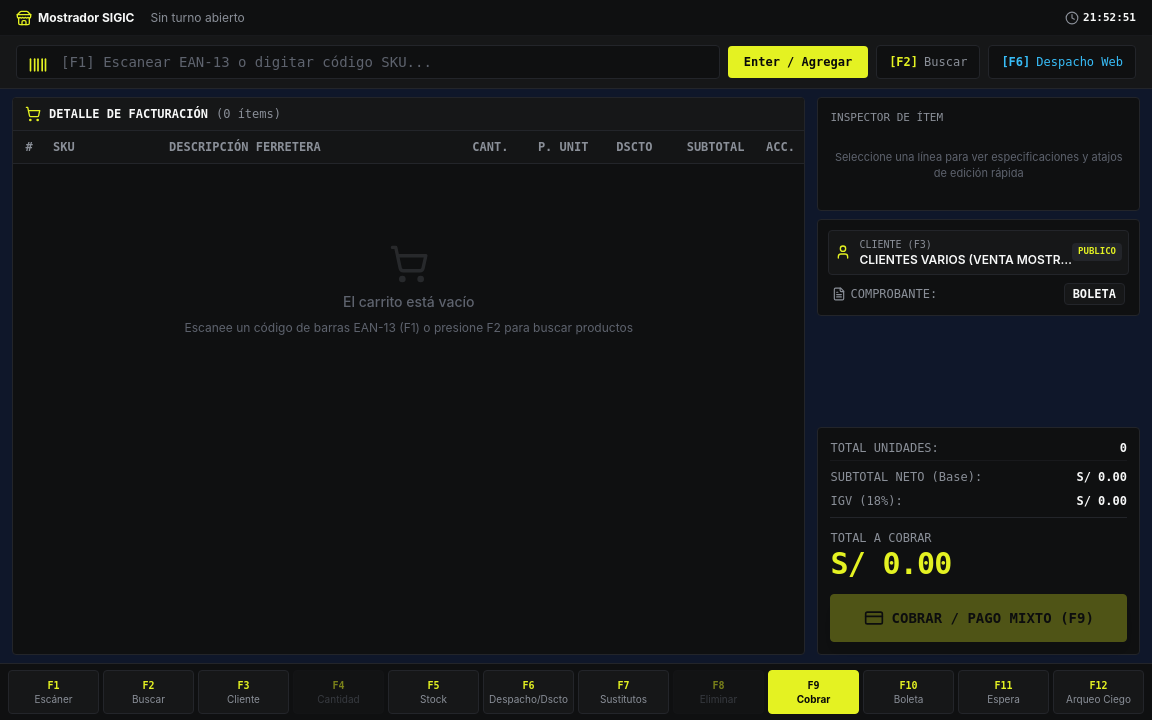
it: Despacho Ligero en Tienda de Pedidos Web (RF-POS-011) › rechaza despacho si el pedido no se encuentra en estado 'Listo para Retiro'
The width and height of the screenshot is (1152, 720).
Click the text "Despacho Web". click: (1080, 62)
box: [1036, 54, 1123, 70]
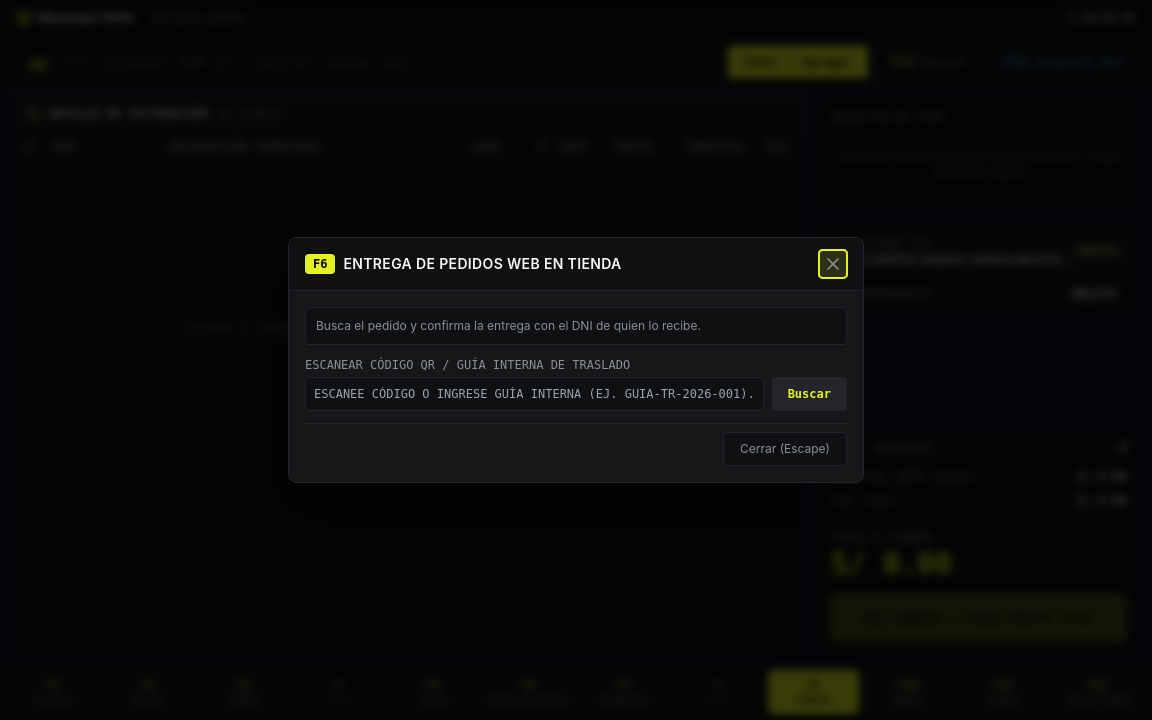
Replace the text in the field with placeholder "Escanee código o ingrese Guía Interna" with "GUIA-TR-2026-003". click: (534, 394)
box: [305, 377, 764, 411]
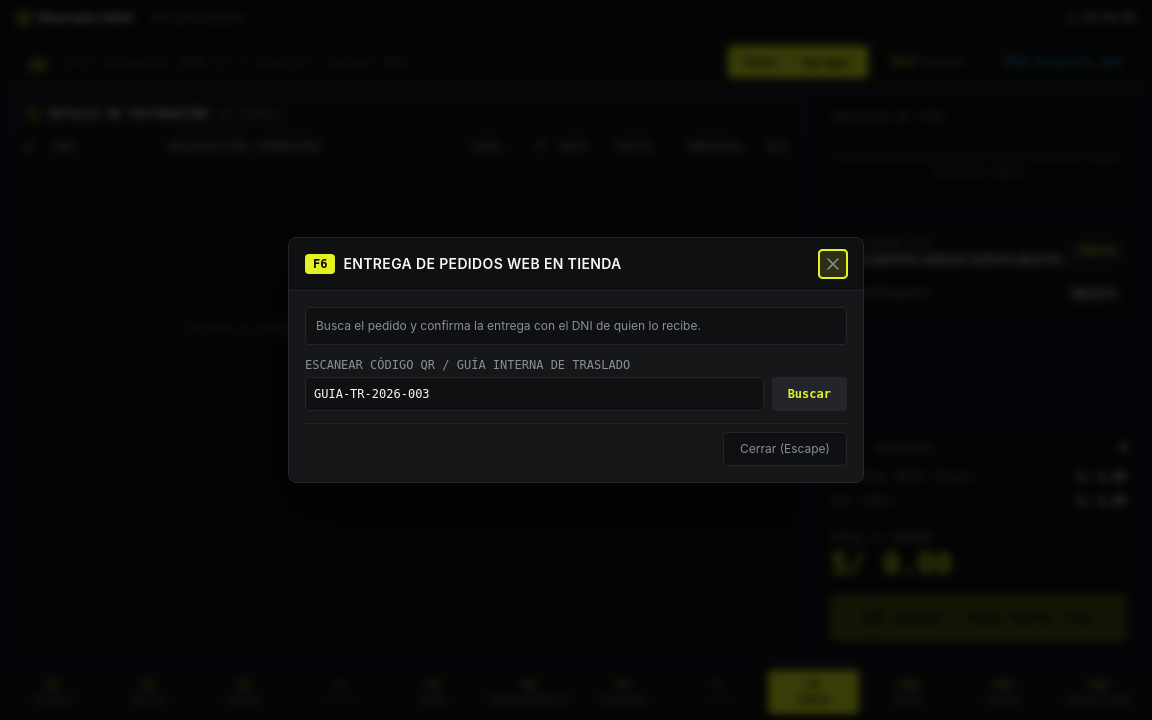
Click the button "Buscar". click: (809, 394)
box: [772, 377, 847, 411]
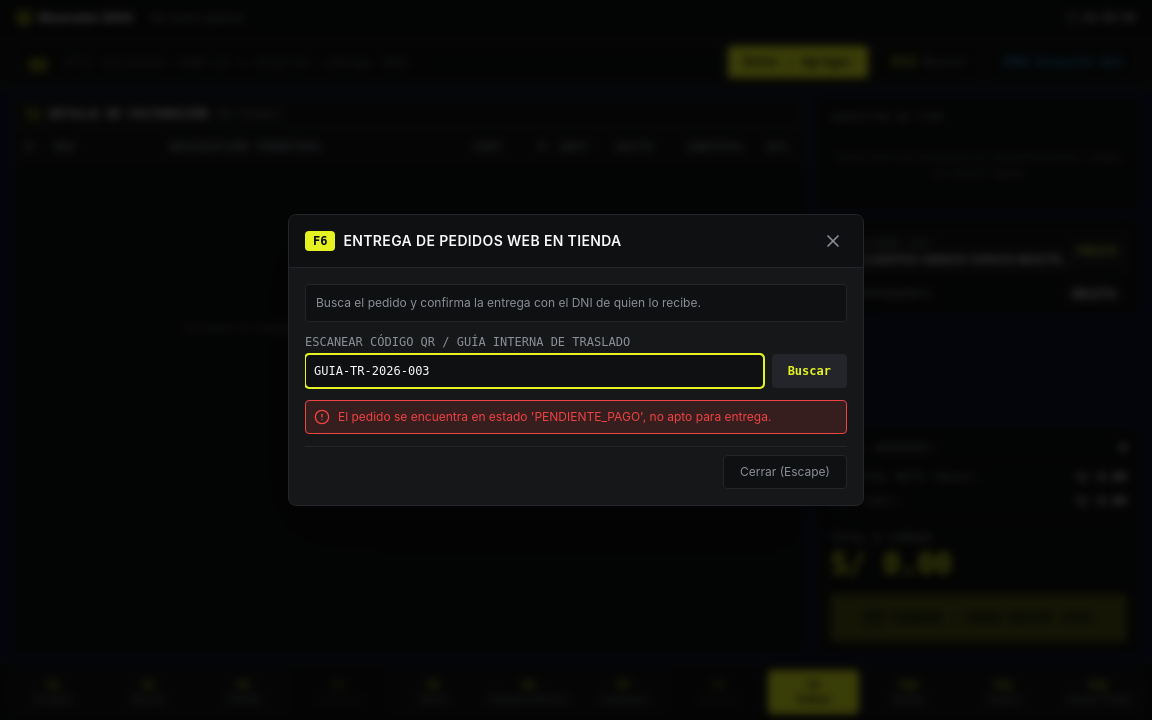
expect the text "no apto para entrega" is shown: met, box [338, 409, 771, 424]
